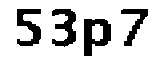3: (48, 4, 80, 53)
5: (11, 4, 45, 48)
7: (118, 6, 151, 52)
p: (82, 13, 113, 60)
